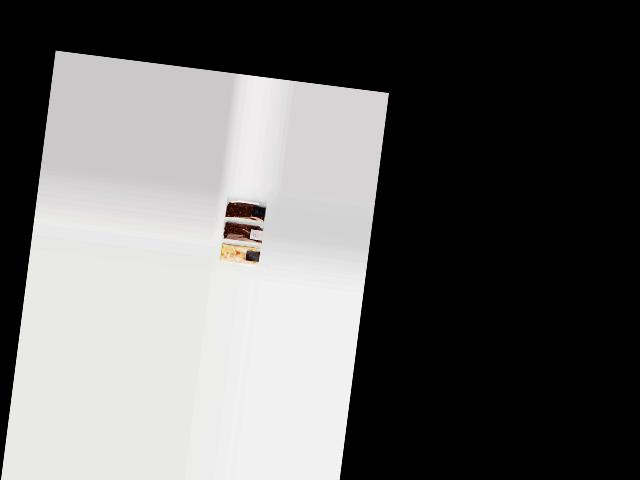chocolate: (221, 193, 266, 223)
